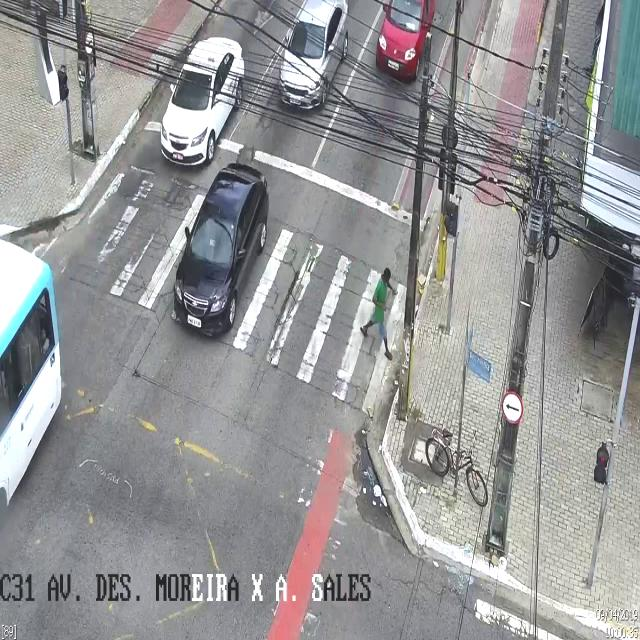Car: (175, 161, 269, 337), (158, 35, 244, 169), (281, 0, 349, 107), (377, 1, 435, 81)
